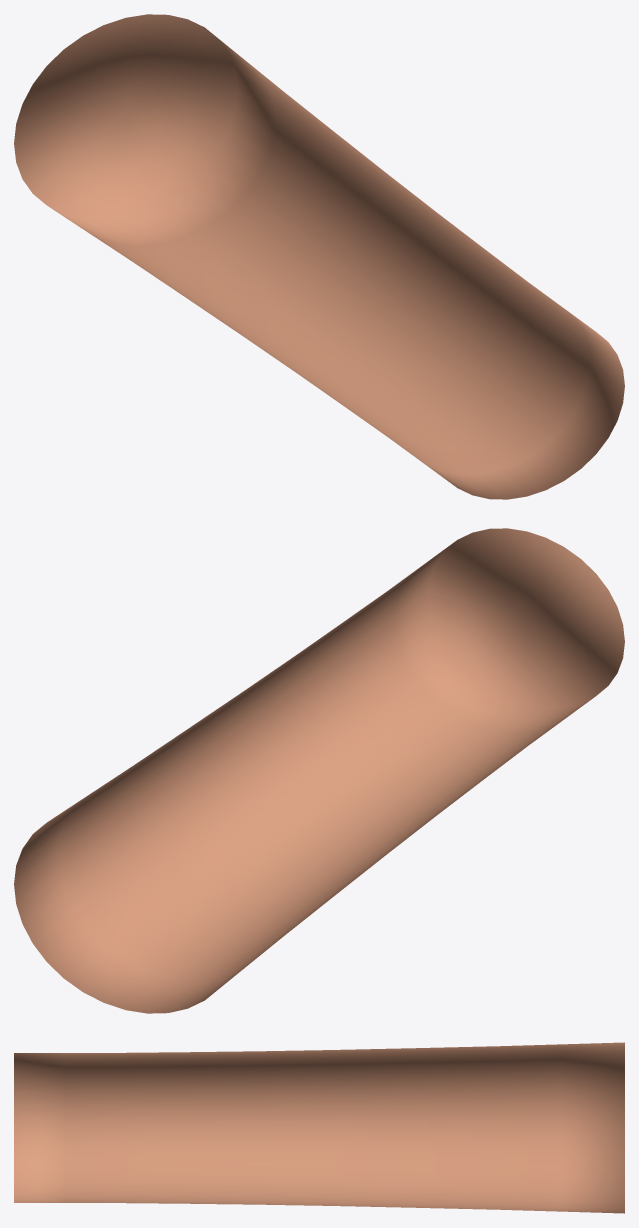
File: forearm.glb
3 views of the same model, one above another, from view 1: azimuth 30°, elevation 25°; view 2: azimuth 150°, elevation 25°; view 3: azimuth 270°, elevation 25° (orthographic). The views are drawn at different scales.
Visible parts, largest first — view 1: forearm; view 2: forearm; view 3: forearm.
Part boxes in pixels (left/top/right/bottom): forearm: left=14, top=14, right=624, bottom=499; forearm: left=14, top=528, right=624, bottom=1013; forearm: left=14, top=1042, right=624, bottom=1213.
Bounding box in the file's own units: 0.0836 × 0.0705 × 0.26.
Materials: 1 (1 with a texture image).
